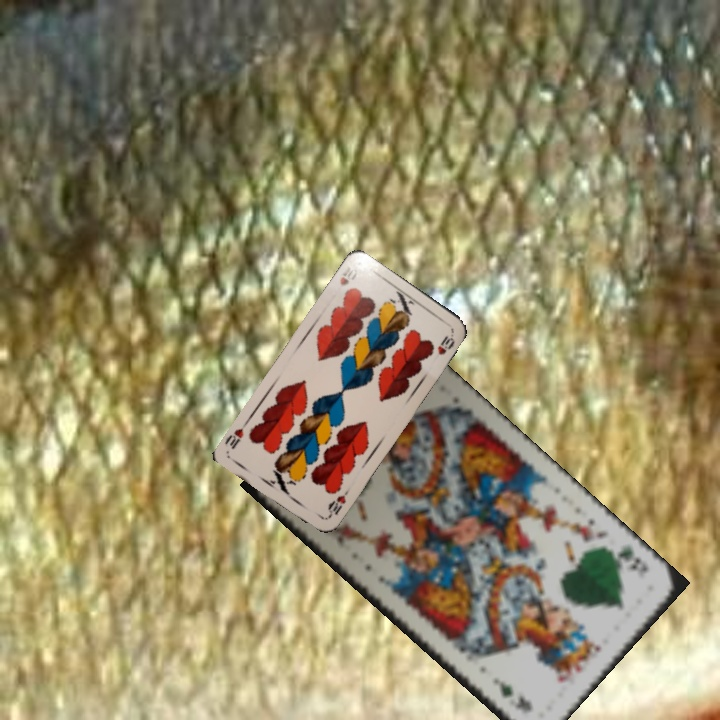GK: (604, 541, 651, 580)
H10: (324, 485, 352, 521), (336, 262, 360, 289)
